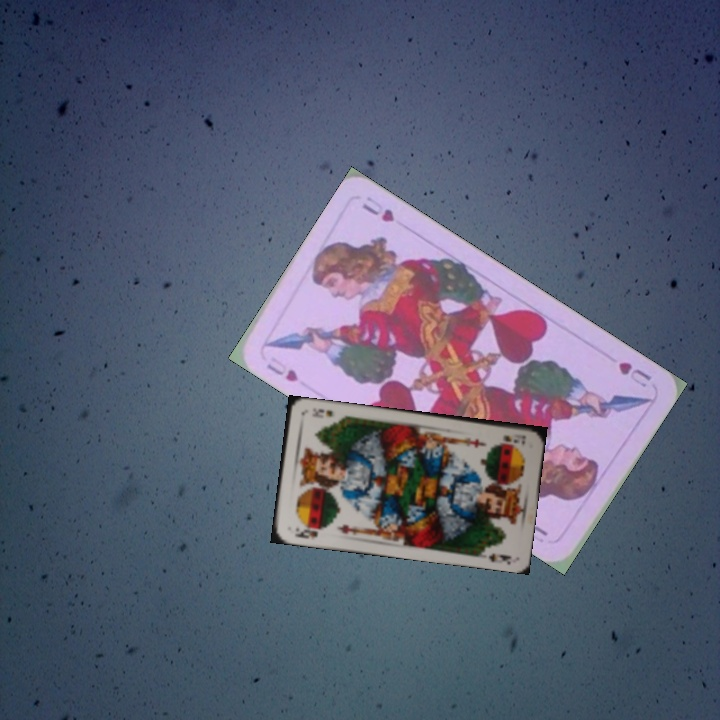HU: (614, 357, 654, 390), (262, 352, 301, 385)
SK: (291, 522, 328, 542), (499, 430, 528, 447)
